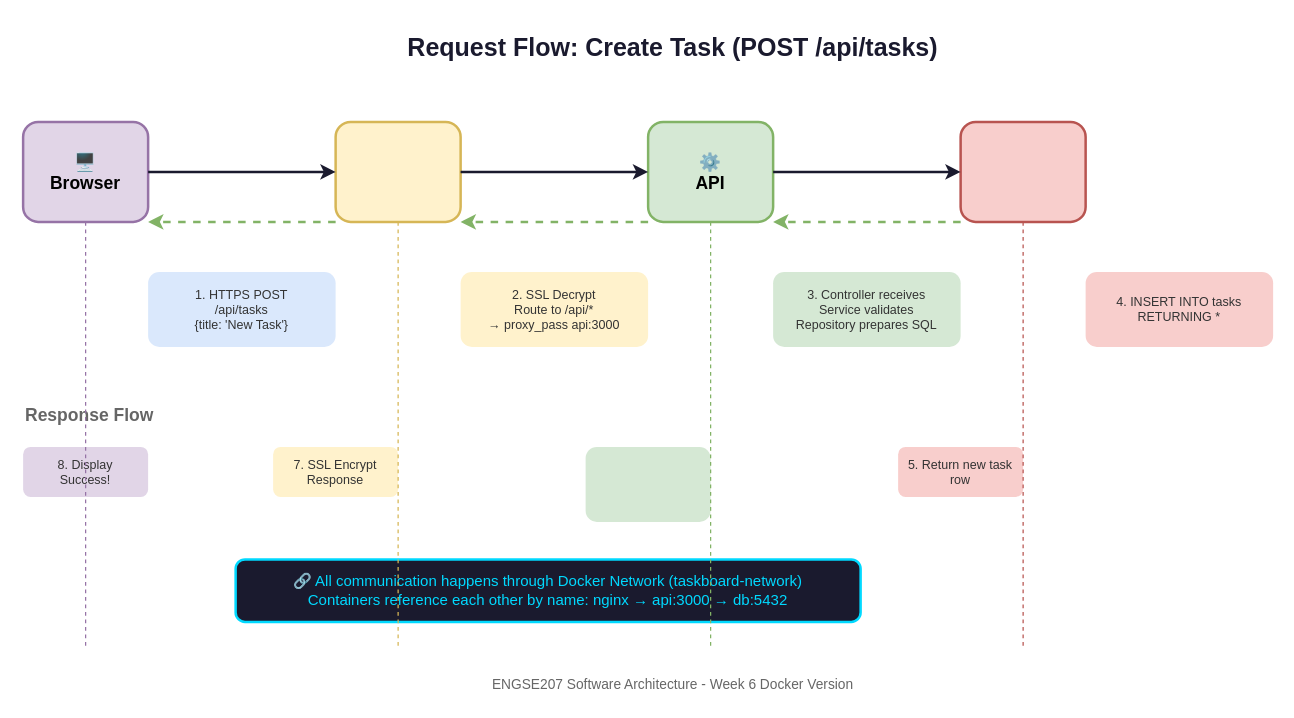
The diagram is 1294 pixels wide and 718 high, and some of its shapes have lost their labels. The box of each missing label's shape, as (x1, y1, x2, y2) in pixels:
6. JSON Response {success: true, data: {...}}: (585, 446, 710, 521)
🌐 Nginx: (334, 120, 461, 222)
🗄️ PostgreSQL: (959, 120, 1086, 222)
